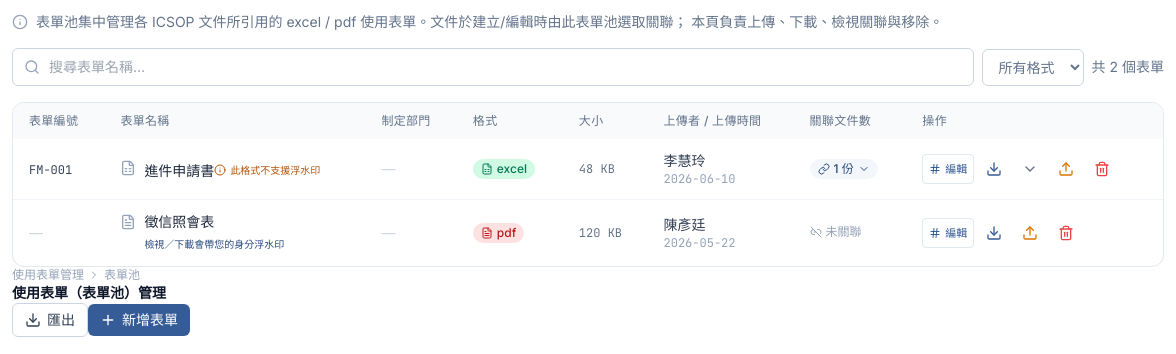
Test: UsageFormManagementPage 匯出之使用者可見回饋（AC-X10 逐字文案） › 🔴 AC-X10 超限 → 錯誤回饋**逐字**為本頁句式（「筆數」＋「篩選條件」），並附錯誤碼標記
The width and height of the screenshot is (1176, 354).
What coordinates should you click on to do the following:
click the button "匯出"
I would click on:
 (50, 320)
Its box is [12,303,88,337].
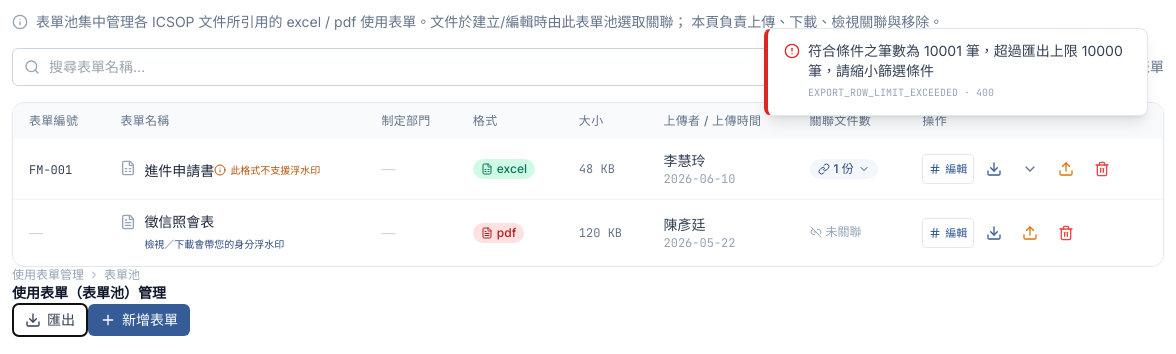
Expected: the text "EXPORT_ROW_LIMIT_EXCEEDED · 400" is shown, [808,86,994,99]
